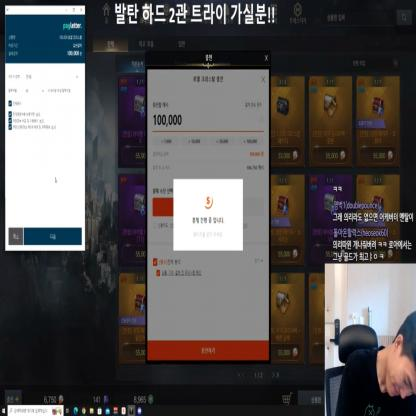streamer: (335, 310, 416, 416)
